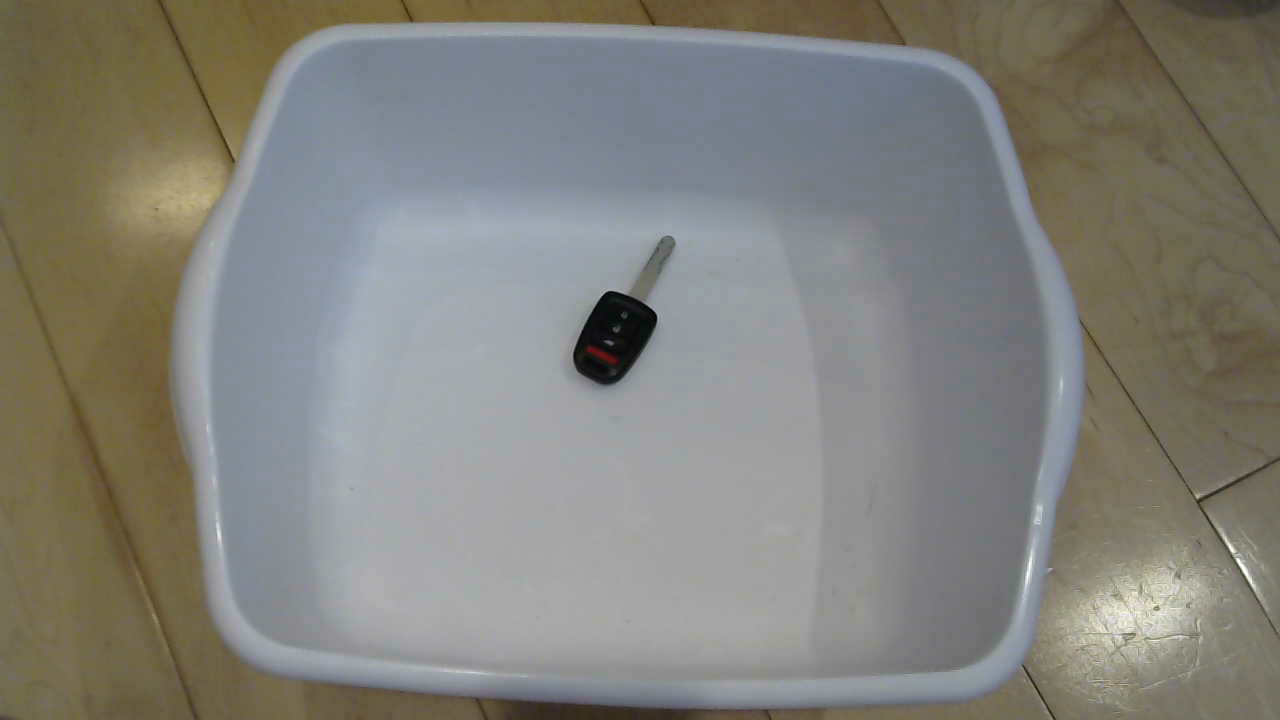key: (543, 236, 697, 410)
